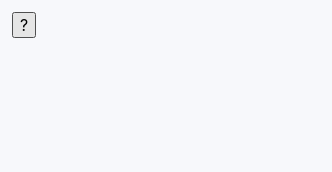
Test: FieldHelp › 点击 ? 展开说明，再点一次收起
This screenshot has width=332, height=172.
Click the button with class "training-field-help-button" at (24,25), box [12, 12, 36, 38]
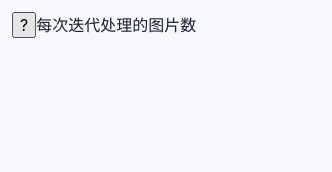
Check: the text with class "training-field-help-bubble" reads "每次迭代处理的图片数", box [36, 15, 196, 35]
Click the button with class "training-field-help-button" at (24,25), box [12, 12, 36, 38]
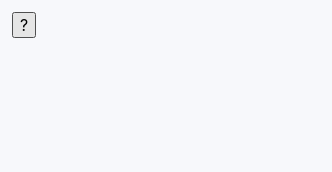
Check: the text with class "training-field-help-bubble" is gone
